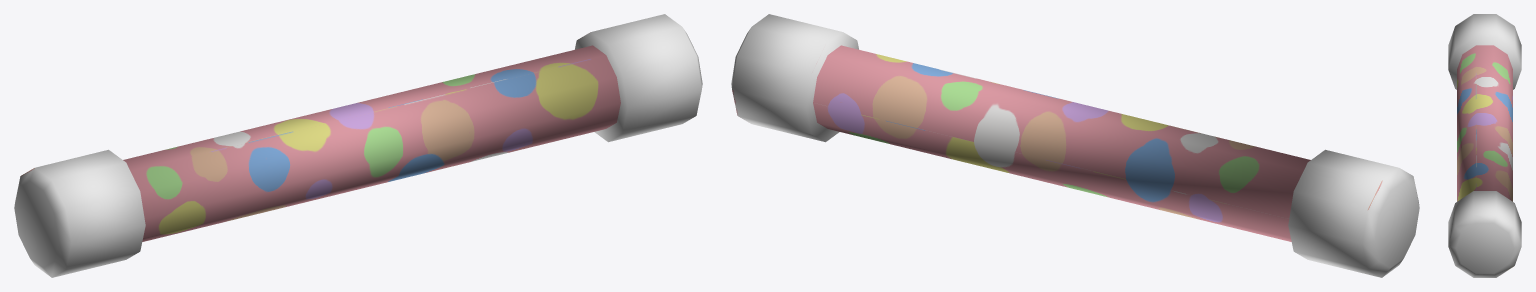
The model's file is StarCandyVial.glb.
3 views of the same model, side by side, from view 1: azimuth 30°, elevation 25°; view 2: azimuth 150°, elevation 25°; view 3: azimuth 270°, elevation 25° (orthographic). The views are drawn at different scales.
Visible parts, largest first — view 1: Cylinder; view 2: Cylinder; view 3: Cylinder.
Part boxes in pixels (x1=…): Cylinder: x1=14, y1=14, x2=702, y2=277; Cylinder: x1=731, y1=14, x2=1419, y2=277; Cylinder: x1=1448, y1=14, x2=1521, y2=277.
Size of the model in its own units: 5.86 by 0.8473 by 0.8909.
1 material, 1 textured.
